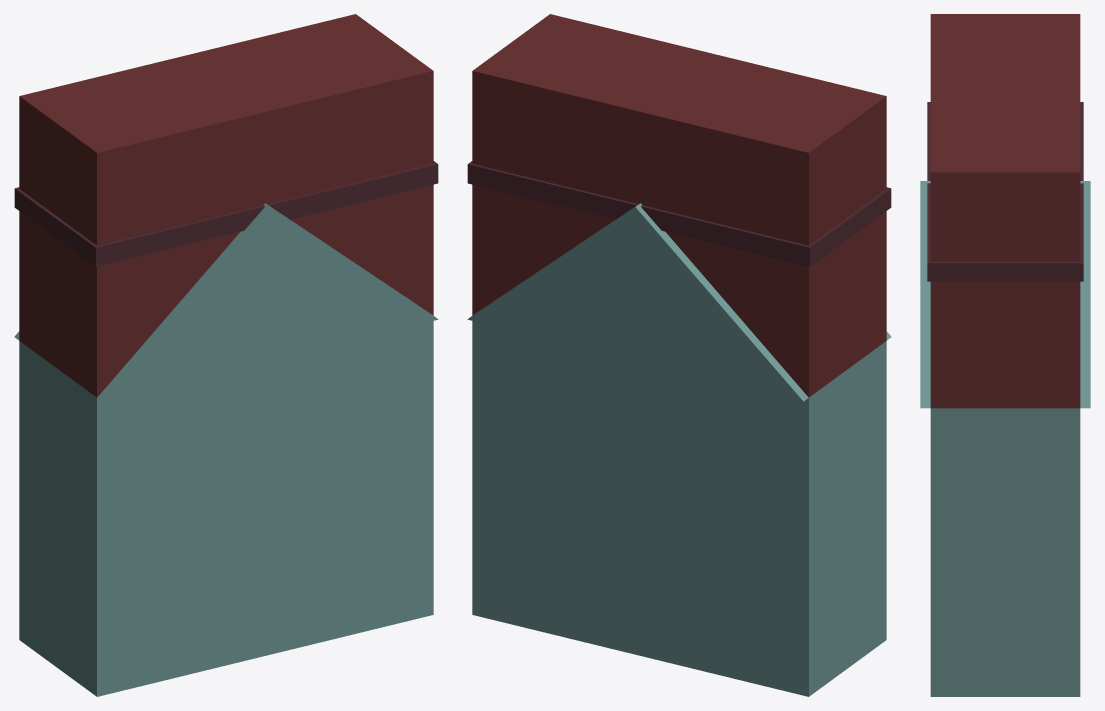
File: pachet_tigari.glb
3 renders of one model, left to right at view 1: azimuth 30°, elevation 25°; view 2: azimuth 150°, elevation 25°; view 3: azimuth 270°, elevation 25°, orthographic. The views are drawn at different scales.
Visible parts, largest first — view 1: Pachet; view 2: Pachet; view 3: Pachet.
Part boxes in pixels (<box>): Pachet: <box>14,14,438,696</box>; Pachet: <box>467,14,891,696</box>; Pachet: <box>920,14,1090,696</box>.
Size of the model in its own units: 0.056 by 0.085 by 0.025.
